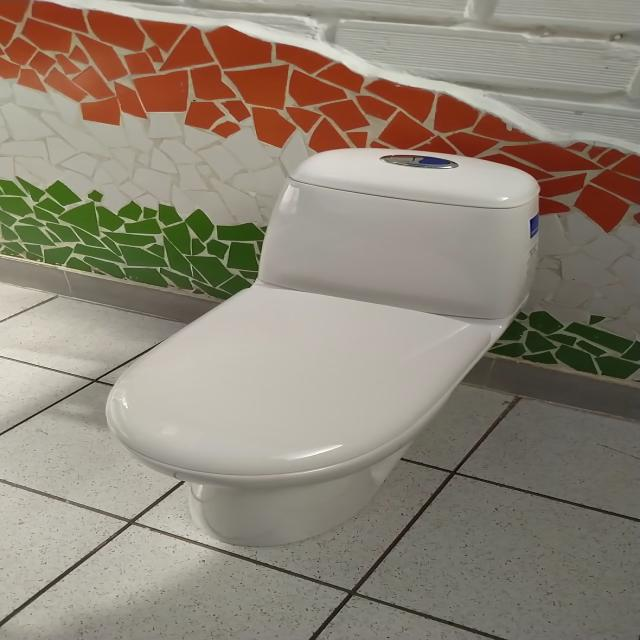toilet: (103, 146, 541, 547)
